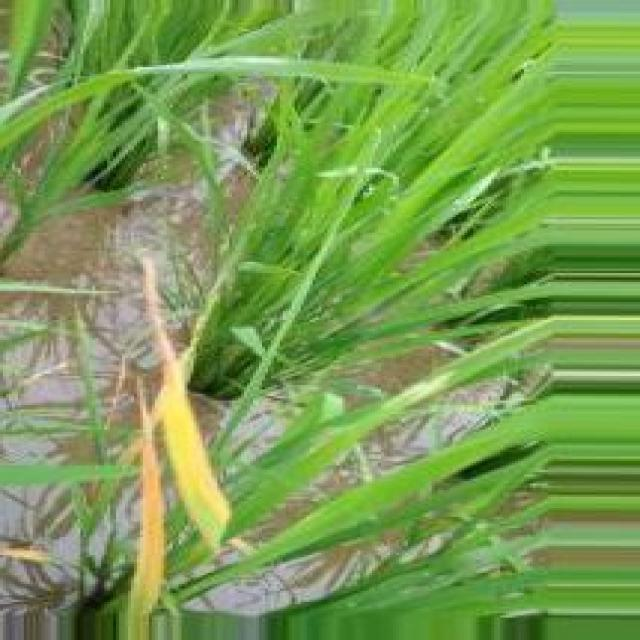Rice Tungro: (146, 255, 231, 548), (126, 376, 166, 639)
